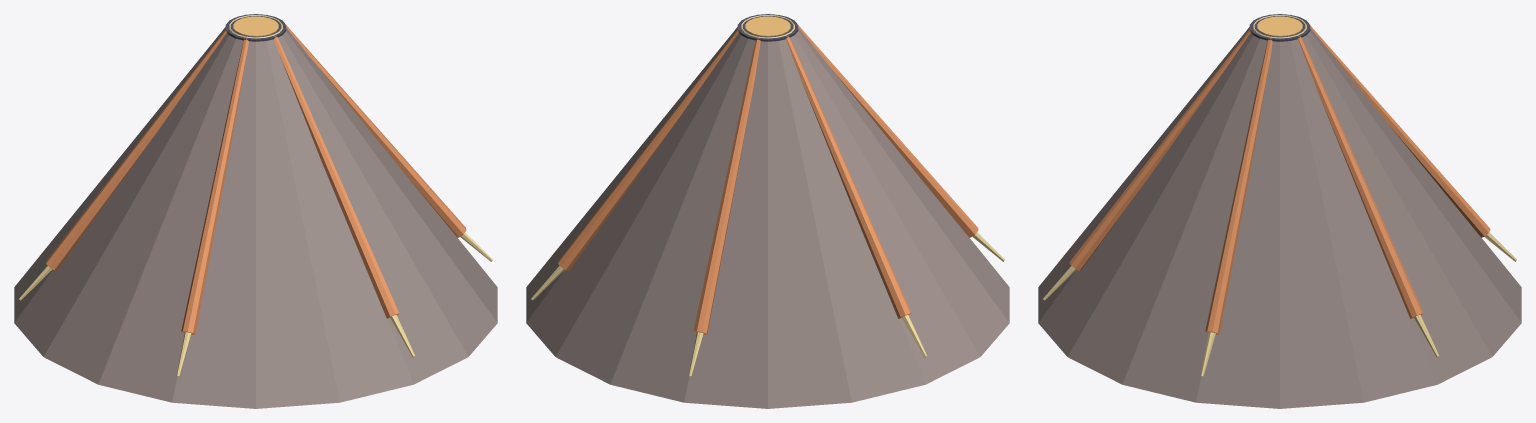
The model's file is volcan_menor.glb.
The picture shows the model from 3 angles, left to right: view 1: azimuth 30°, elevation 25°; view 2: azimuth 150°, elevation 25°; view 3: azimuth 270°, elevation 25°; orthographic projection.
Parts seen in each view (by area): view 1: volcan_menor; view 2: volcan_menor; view 3: volcan_menor.
Boxes of the visible parts, x1,y1,x2,y2 form: volcan_menor: (14,14,497,408); volcan_menor: (526,14,1009,408); volcan_menor: (1038,14,1521,408).
Bounding box in the file's own units: 32 × 20.08 × 31.51.
